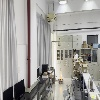fire: (59, 67, 62, 81)
